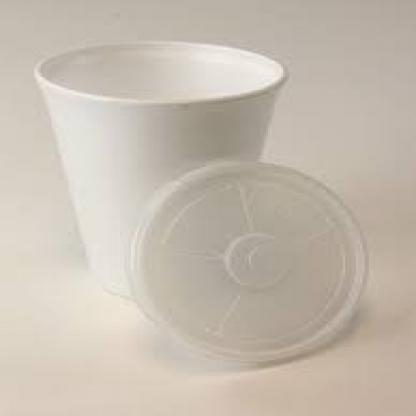Plastic: (35, 31, 376, 372)
